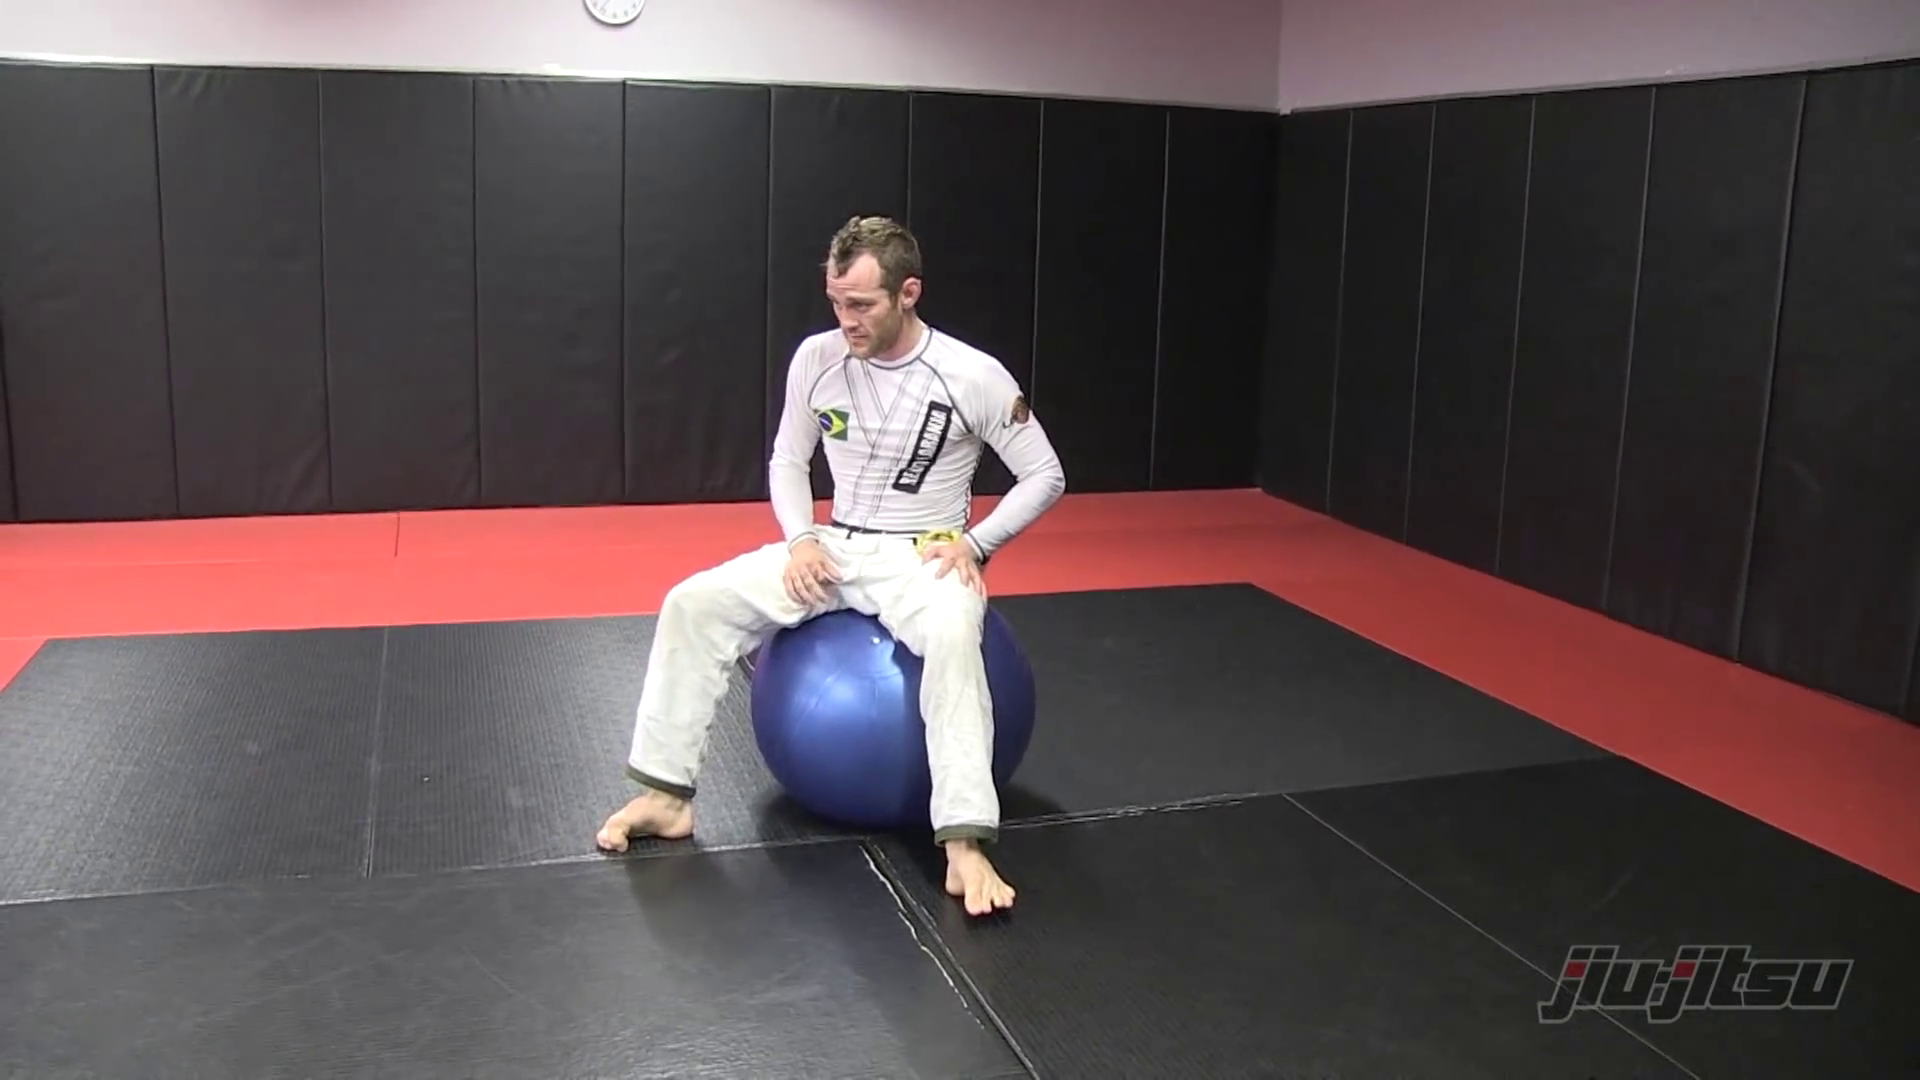yogaball: (724, 597, 1068, 832)
